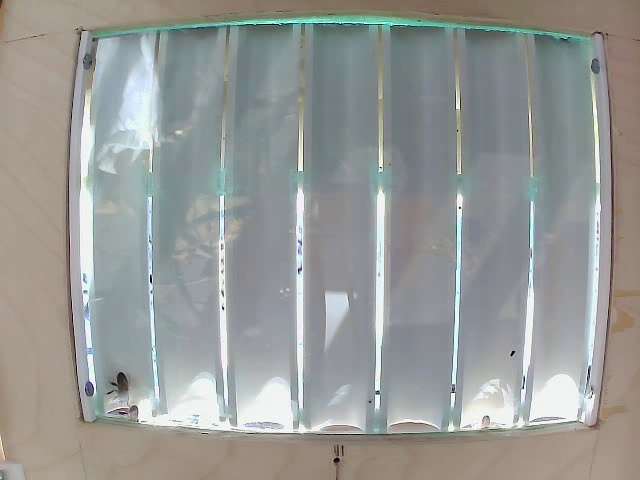bee: (105, 362, 152, 423)
